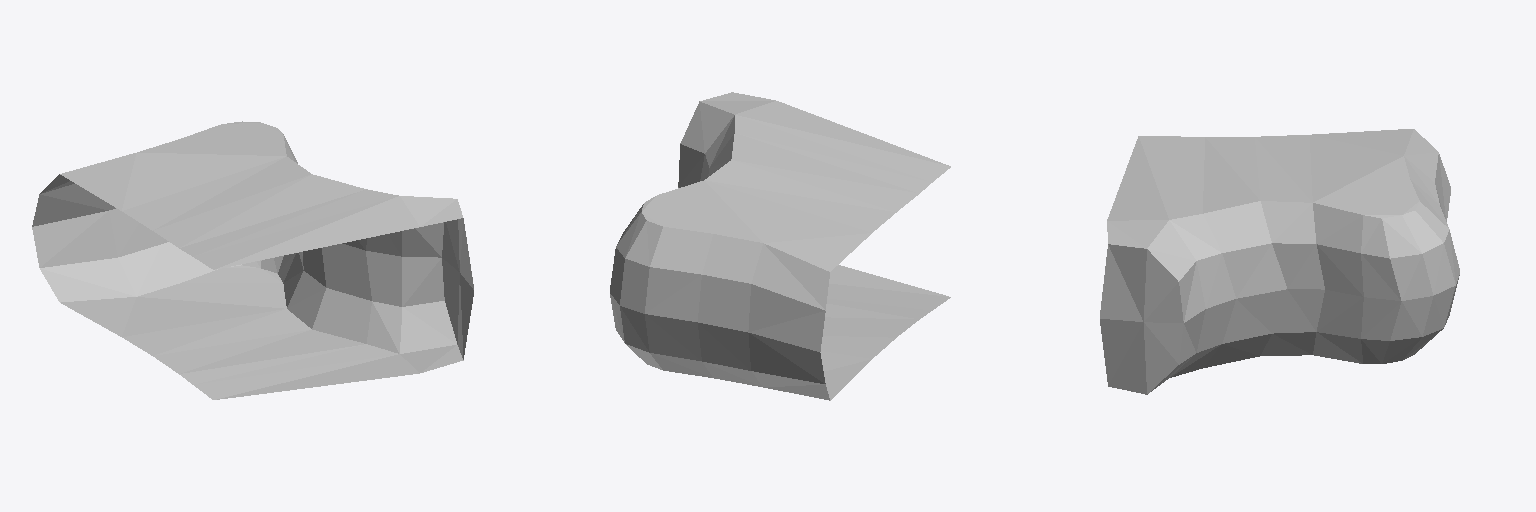
Rendered from trigger.obj.
The picture shows the model from 3 angles: view 1: azimuth 30°, elevation 25°; view 2: azimuth 150°, elevation 25°; view 3: azimuth 270°, elevation 25°; orthographic projection.
Visible parts, largest first — view 1: trigger_Plane.001; view 2: trigger_Plane.001; view 3: trigger_Plane.001.
Part boxes in pixels (left/top/right/bottom): trigger_Plane.001: left=32, top=121, right=473, bottom=399; trigger_Plane.001: left=610, top=92, right=950, bottom=400; trigger_Plane.001: left=1100, top=129, right=1459, bottom=394.
Bounding box in the file's own units: 0.0259 × 0.0142 × 0.0293.